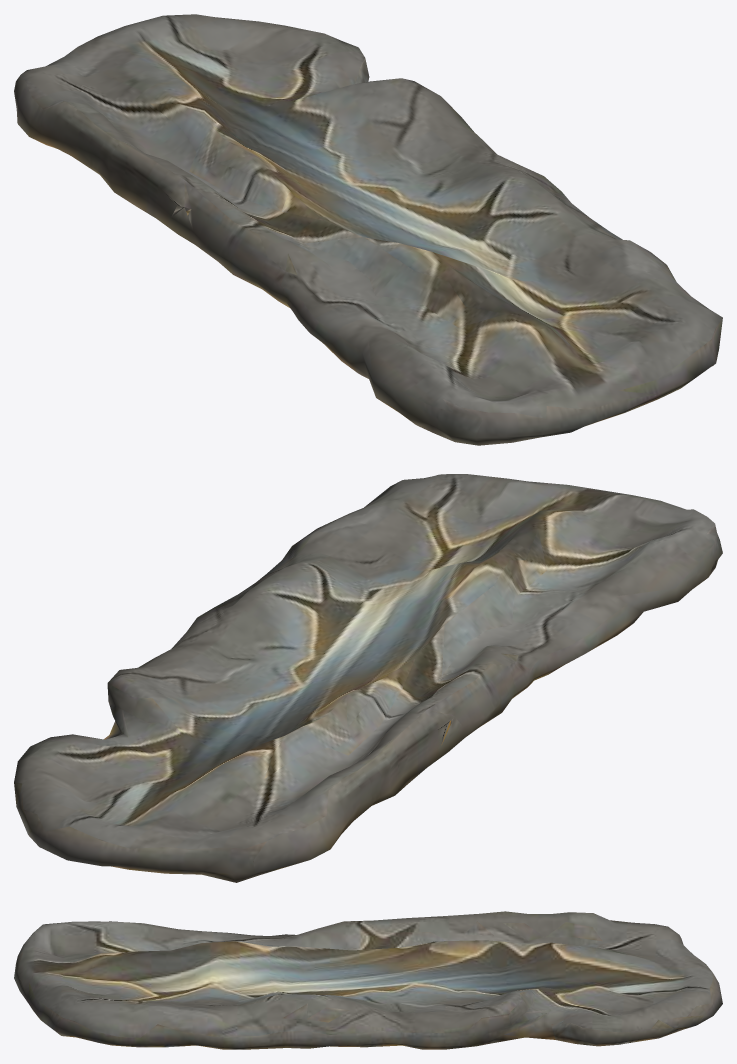
File: mt_rachadura.glb
3 views of the same model, one above another, from view 1: azimuth 30°, elevation 25°; view 2: azimuth 150°, elevation 25°; view 3: azimuth 270°, elevation 25° (orthographic). The views are drawn at different scales.
Parts seen in each view (by area): view 1: Mesh_0.010; view 2: Mesh_0.010; view 3: Mesh_0.010.
Boxes of the visible parts, <box> form: Mesh_0.010: <box>14,14,722,445</box>; Mesh_0.010: <box>14,474,722,882</box>; Mesh_0.010: <box>14,911,722,1049</box>.
Size of the model in its own units: 0.1387 by 0.0259 by 0.3662.
1 material, 1 textured.
